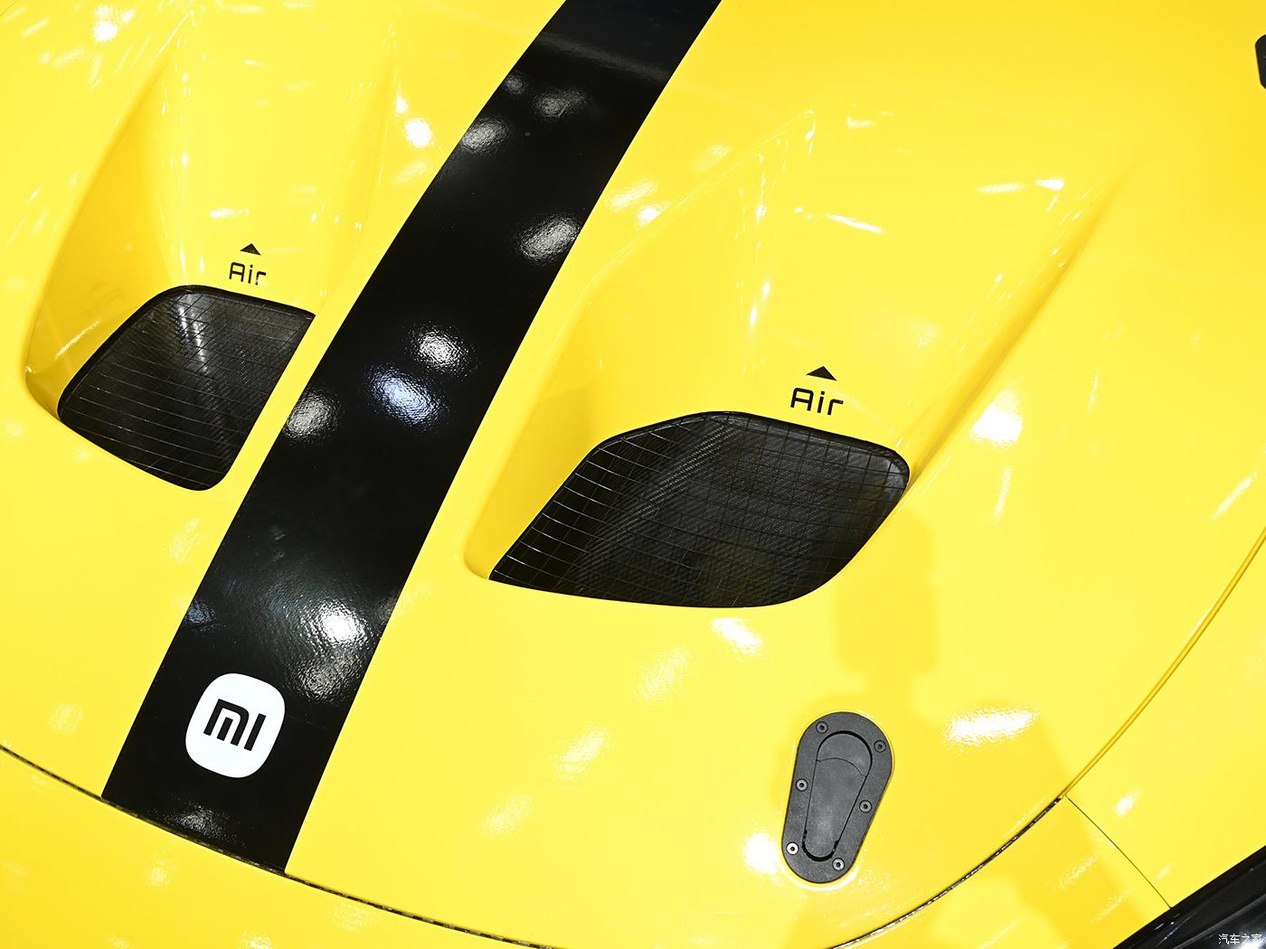XIAOMI: (184, 673, 282, 780)
